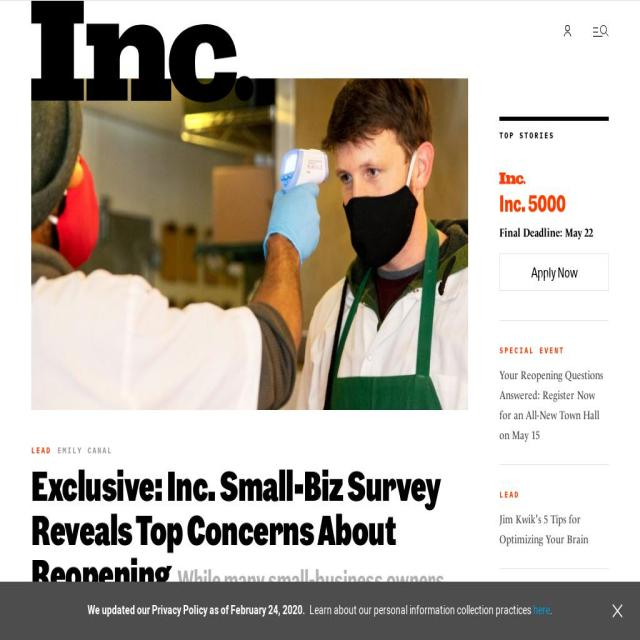button: (498, 253, 610, 293), (608, 594, 627, 626)
heading: (30, 472, 443, 582), (27, 0, 254, 105), (498, 168, 570, 215), (500, 128, 553, 142), (498, 346, 566, 356), (497, 486, 520, 504)
iframe: (0, 581, 638, 640)
image: (29, 79, 471, 416), (592, 21, 610, 44), (563, 22, 572, 40)
link: (529, 602, 554, 618)
text: (84, 599, 554, 620), (498, 368, 608, 449), (497, 511, 592, 549), (500, 228, 598, 240), (32, 444, 112, 456)
